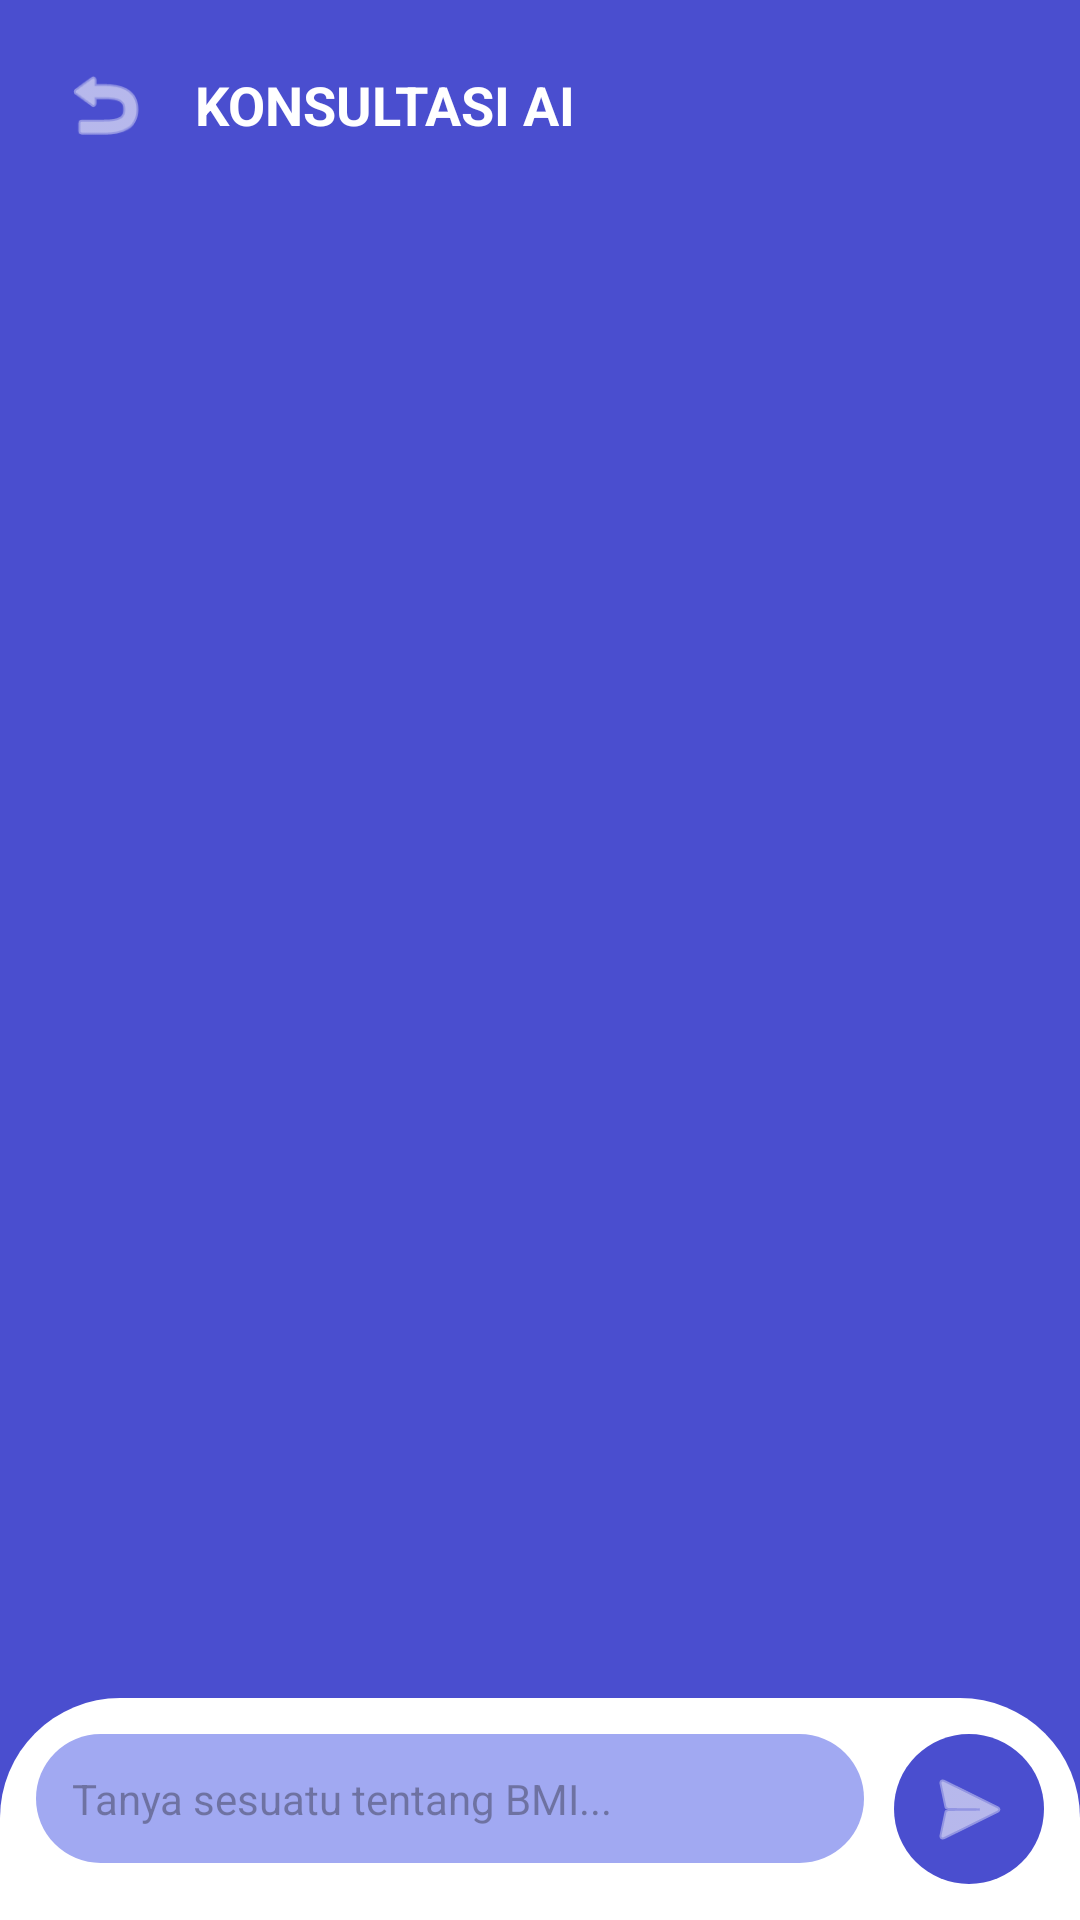

Screen size 1080 × 1920. Icon name, then its center in pixels as (x,y):
revert: (106,105)
send: (969,1809)
